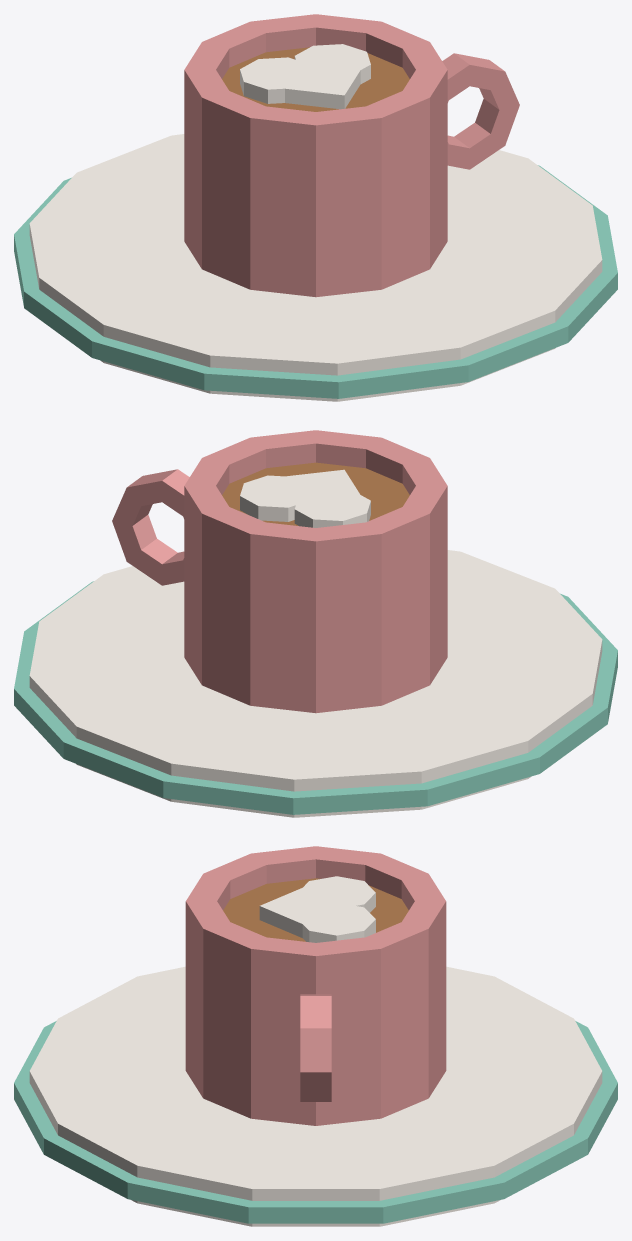
The model's file is CatCafe_Menu_Coffee.glb.
The picture shows the model from 3 angles, top to bottom: view 1: azimuth 30°, elevation 25°; view 2: azimuth 150°, elevation 25°; view 3: azimuth 270°, elevation 25°; orthographic projection.
Visible parts, largest first — view 1: CatCafe_Menu_Coffee_Plate, CatCafe_Menu_Coffee; view 2: CatCafe_Menu_Coffee_Plate, CatCafe_Menu_Coffee; view 3: CatCafe_Menu_Coffee_Plate, CatCafe_Menu_Coffee.
Part boxes in pixels (x1,y1,x2,y2): CatCafe_Menu_Coffee_Plate: [14, 134, 617, 401]; CatCafe_Menu_Coffee: [184, 14, 519, 297]; CatCafe_Menu_Coffee_Plate: [14, 550, 617, 817]; CatCafe_Menu_Coffee: [112, 430, 447, 713]; CatCafe_Menu_Coffee_Plate: [14, 966, 617, 1226]; CatCafe_Menu_Coffee: [185, 846, 446, 1125].
Size of the model in its own units: 1.13 by 0.48 by 1.16.
Materials: 1 (1 with a texture image).
